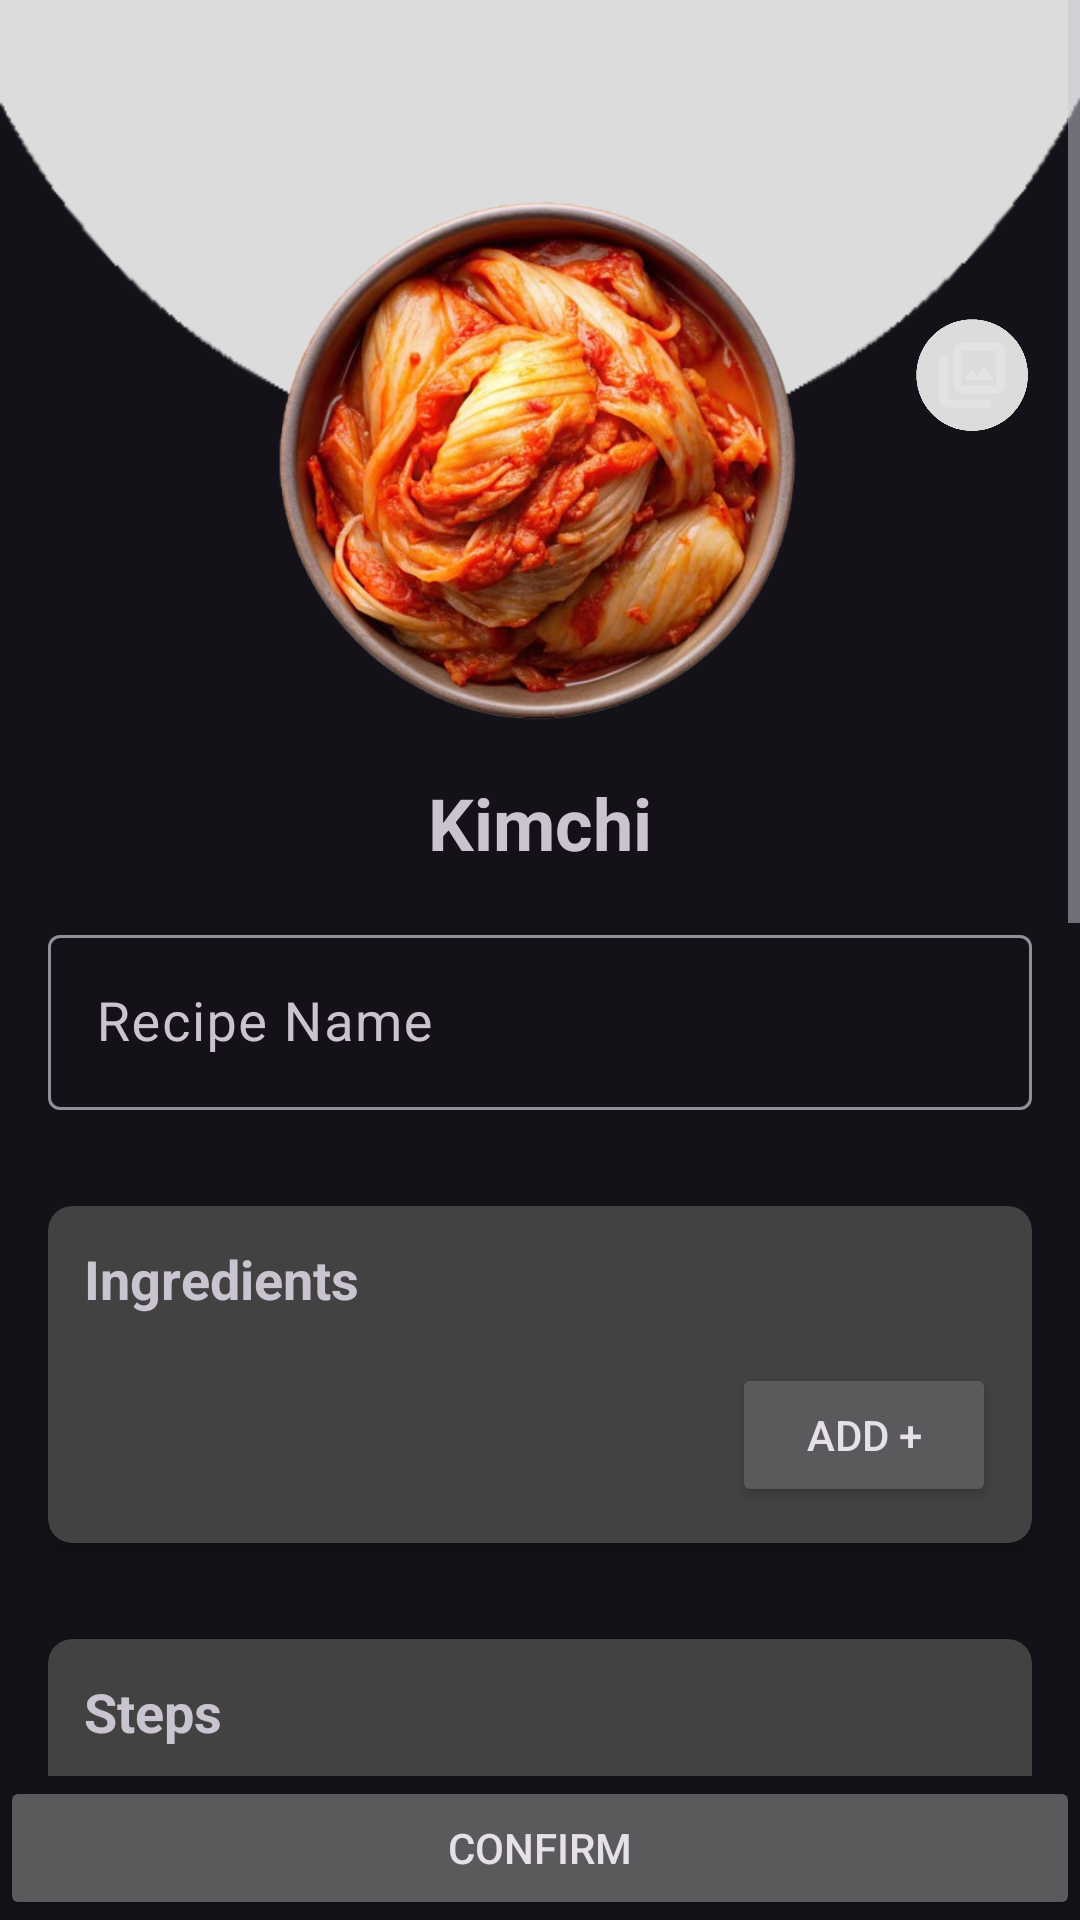

Locate icon controls on the screen. Image size 1080 x 1920, boxes as bbox=[x1, y1, x2, y2].
photo library: bbox=[916, 319, 1028, 431]
